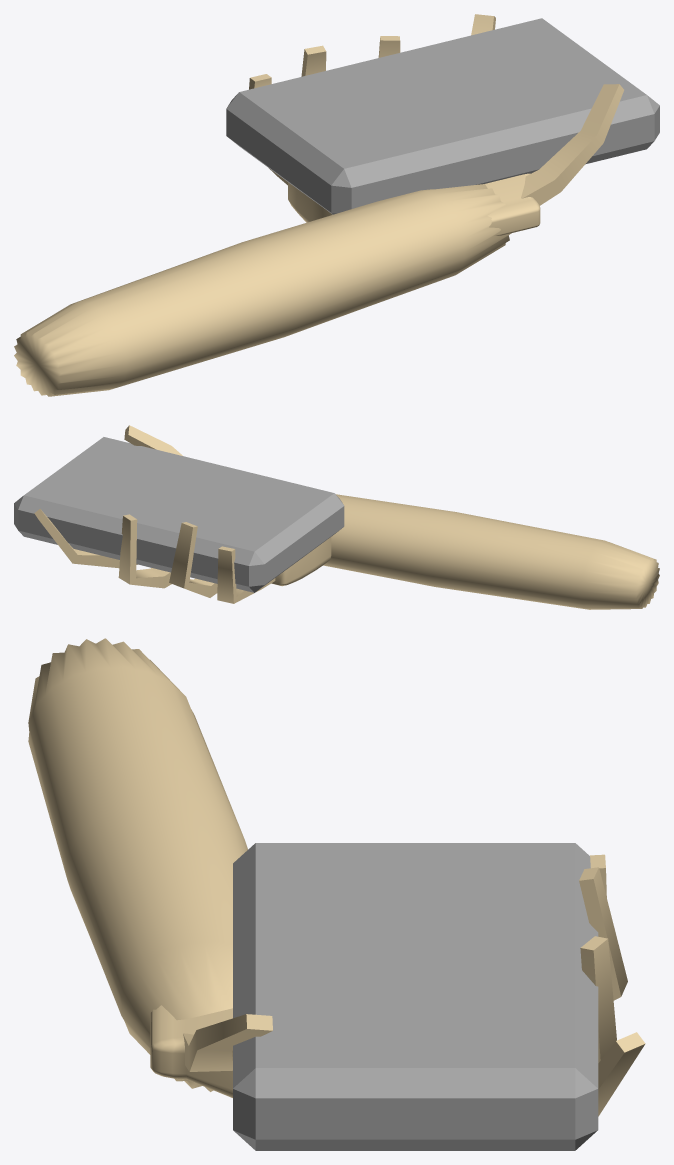
File: handPhoneExport.fbx
The picture shows the model from 3 angles, top to bottom: view 1: azimuth 30°, elevation 25°; view 2: azimuth 150°, elevation 25°; view 3: azimuth 270°, elevation 25°; orthographic projection. The views are drawn at different scales.
Parts seen in each view (by area): view 1: pCylinder2, pCube1; view 2: pCylinder2, pCube1; view 3: pCube1, pCylinder2.
Boxes of the visible parts, x1,y1,x2,y2 form: pCylinder2: (14, 14, 623, 396); pCube1: (226, 18, 659, 214); pCylinder2: (34, 425, 659, 609); pCube1: (14, 437, 344, 592); pCube1: (233, 843, 598, 1150); pCylinder2: (28, 638, 645, 1116).
Size of the model in its own units: 0.7842 by 0.1481 by 0.4054.
